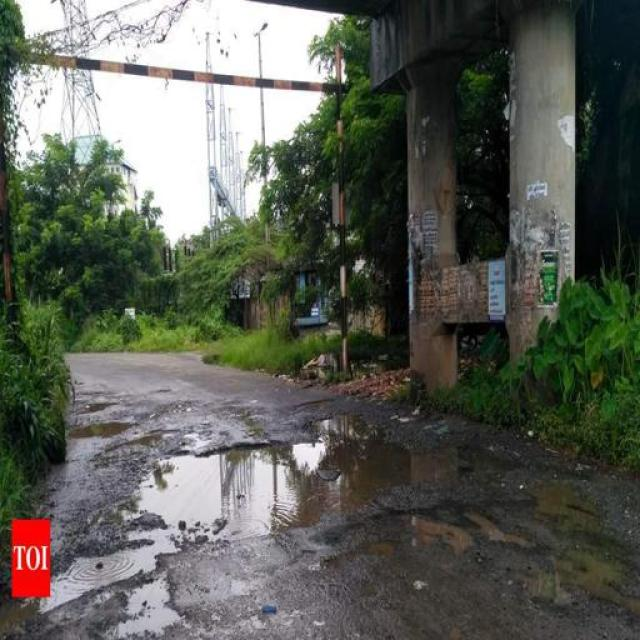puddle: (166, 453, 397, 528), (407, 443, 473, 496), (56, 559, 175, 580), (66, 419, 133, 439)
